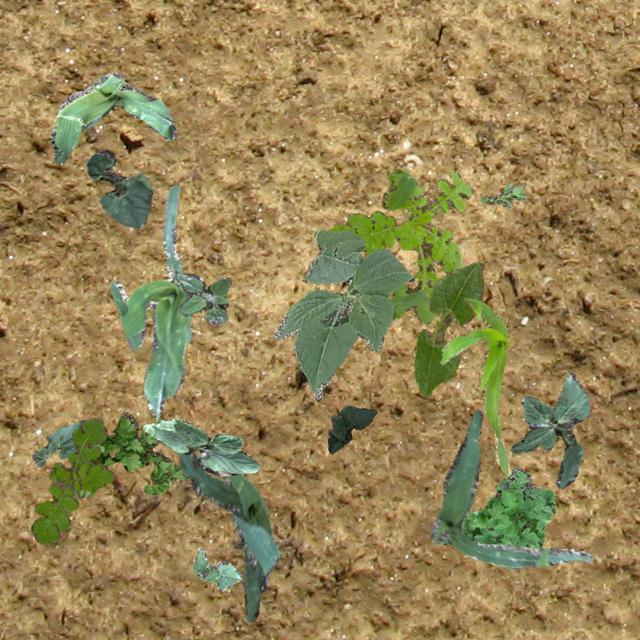crop: (430, 408, 592, 566), (274, 228, 414, 398), (109, 184, 190, 418), (177, 449, 279, 622), (440, 298, 510, 474), (50, 70, 176, 162), (412, 260, 483, 396), (509, 372, 588, 488), (142, 416, 258, 476), (85, 148, 152, 226), (31, 418, 84, 466), (326, 404, 376, 452), (192, 546, 240, 590)
weed: (328, 168, 472, 322), (30, 416, 114, 546), (72, 410, 186, 498), (438, 466, 554, 548), (176, 272, 230, 324), (480, 182, 528, 208)
